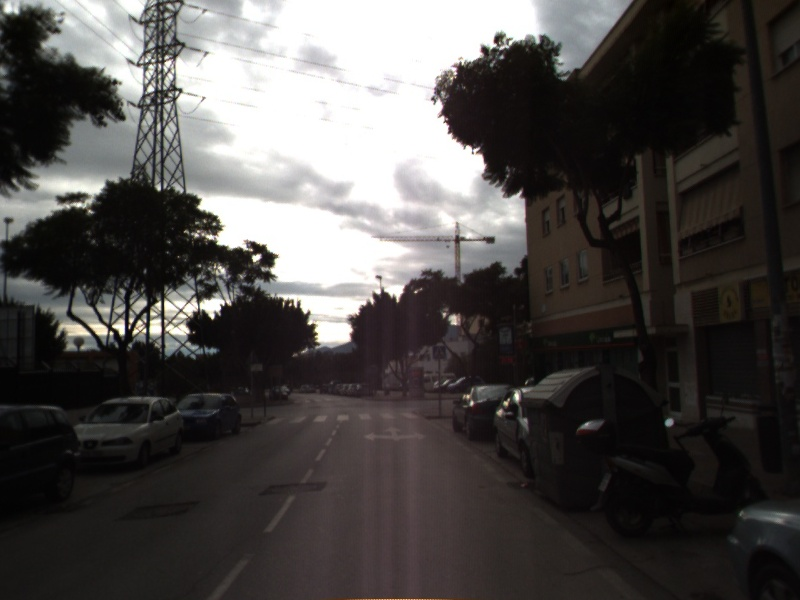STRAIGHT_LEFT_RIGHT: (361, 423, 429, 443)
